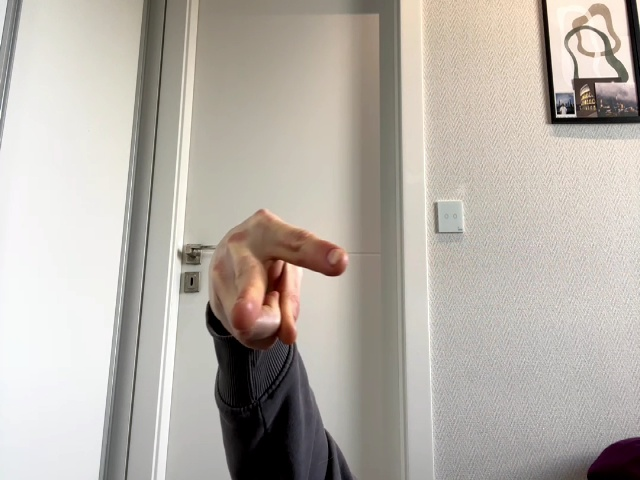U: (209, 209, 348, 347)
